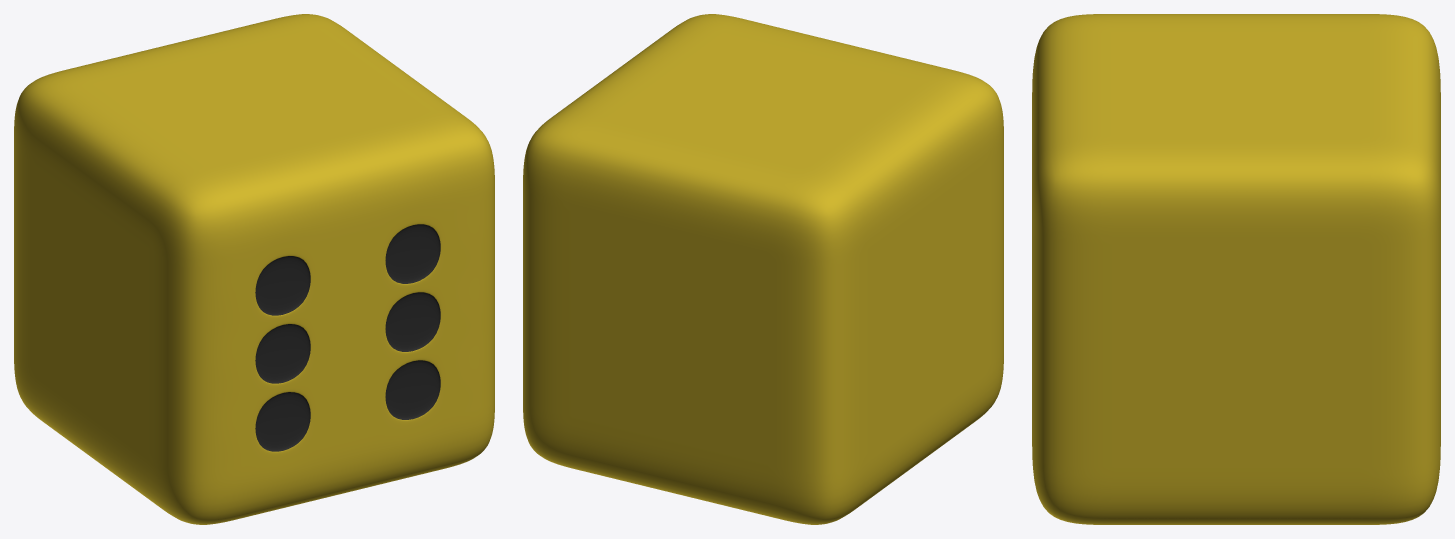
The model's file is dice_6.fbx.
3 views of the same model, side by side, from view 1: azimuth 30°, elevation 25°; view 2: azimuth 150°, elevation 25°; view 3: azimuth 270°, elevation 25° (orthographic). The views are drawn at different scales.
Parts seen in each view (by area): view 1: pCube1; view 2: pCube1; view 3: pCube1.
Boxes of the visible parts, x1=… form: pCube1: x1=14, y1=14, x2=494, y2=524; pCube1: x1=523, y1=14, x2=1003, y2=524; pCube1: x1=1032, y1=14, x2=1440, y2=524.
Size of the model in its own units: 100 by 100 by 100.
